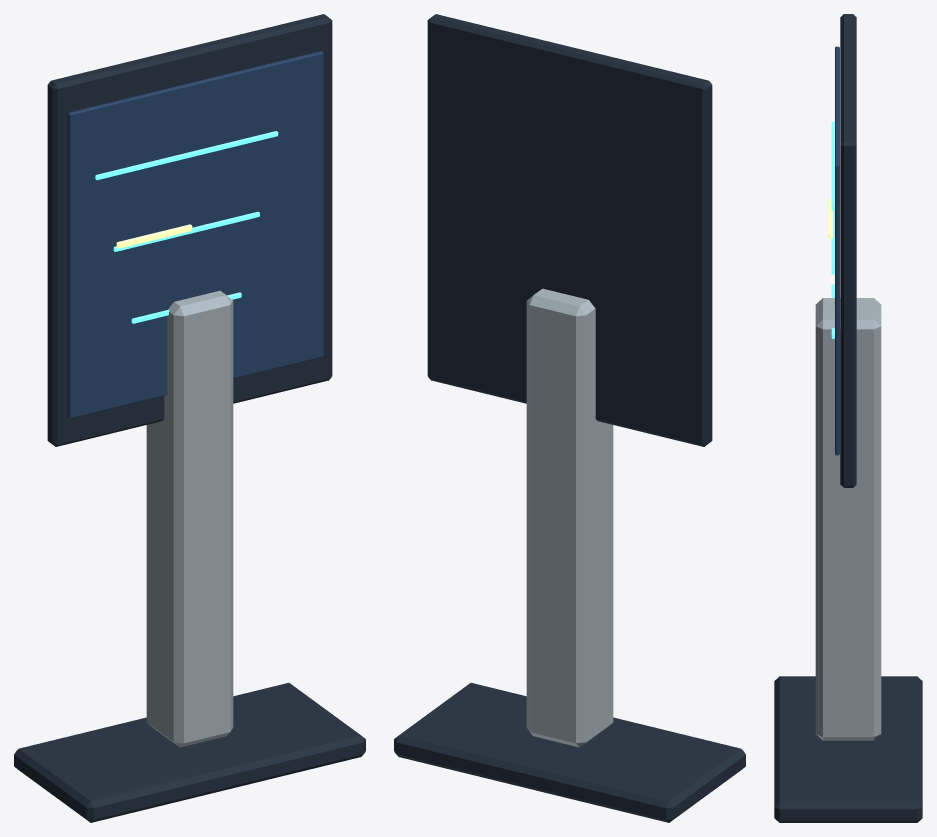
File: public_02.glb
3 renders of one model, left to right at view 1: azimuth 30°, elevation 25°; view 2: azimuth 150°, elevation 25°; view 3: azimuth 270°, elevation 25°, orthographic. The views are drawn at different scales.
Parts seen in each view (by area): view 1: Screen, GuideMast, MonitorFrame, GuideBase, DisplayLine (×2); view 2: MonitorFrame, GuideMast, GuideBase; view 3: GuideMast, GuideBase, MonitorFrame, Screen, DisplayLine.
Boxes of the visible parts, <box> form: Screen: <box>67,51,323,418</box>; GuideMast: <box>146,290,233,747</box>; MonitorFrame: <box>47,14,332,446</box>; GuideBase: <box>14,683,365,822</box>; DisplayLine (×2): <box>95,131,278,251</box>; MonitorFrame: <box>427,14,712,446</box>; GuideMast: <box>526,288,613,747</box>; GuideBase: <box>394,683,745,822</box>; GuideMast: <box>815,298,881,740</box>; GuideBase: <box>774,676,922,822</box>; MonitorFrame: <box>840,14,856,487</box>; Screen: <box>835,46,839,455</box>; DisplayLine: <box>831,121,834,210</box>.
Bounding box in the file's own units: 0.75 × 1.83 × 0.36.
